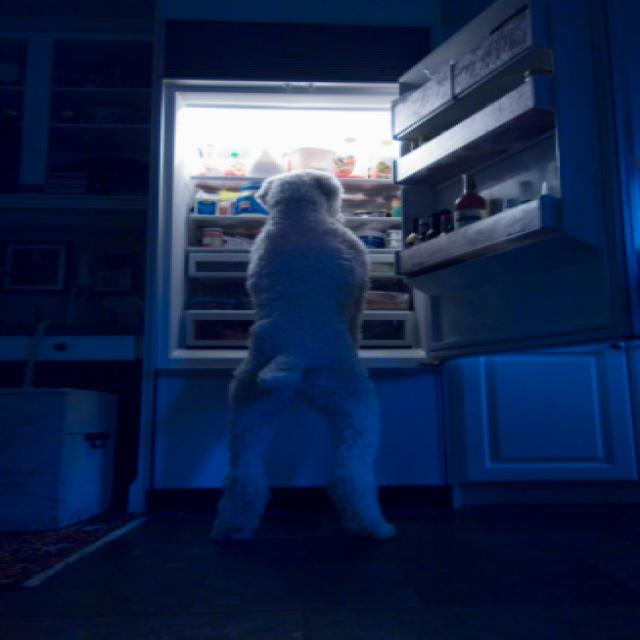dog: (203, 161, 480, 549)
